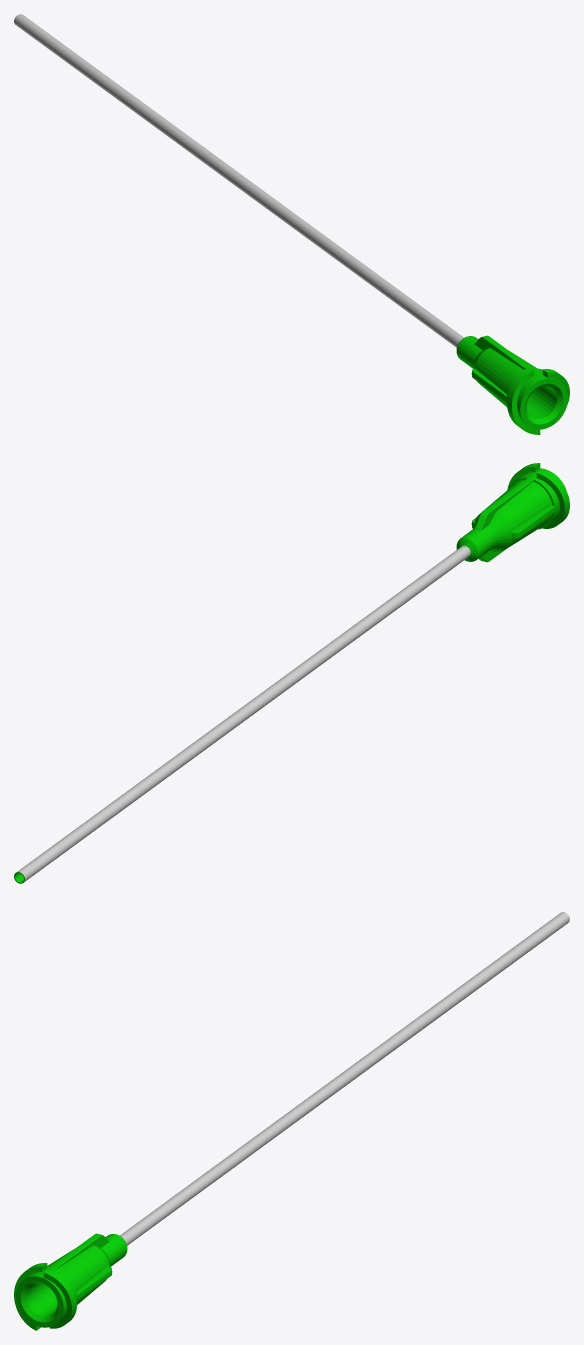
The model's file is p_tip.obj.
3 views of the same model, one above another, from view 1: azimuth 30°, elevation 25°; view 2: azimuth 150°, elevation 25°; view 3: azimuth 330°, elevation 25° (orthographic).
Visible parts, largest first — view 1: ll_needle_101mm; view 2: ll_needle_101mm; view 3: ll_needle_101mm.
Part boxes in pixels (x1=…): ll_needle_101mm: x1=14, y1=14, x2=569, y2=434; ll_needle_101mm: x1=14, y1=463, x2=569, y2=883; ll_needle_101mm: x1=14, y1=912, x2=569, y2=1330.
Size of the model in its own units: 0.00775 by 0.00769 by 0.1216.
